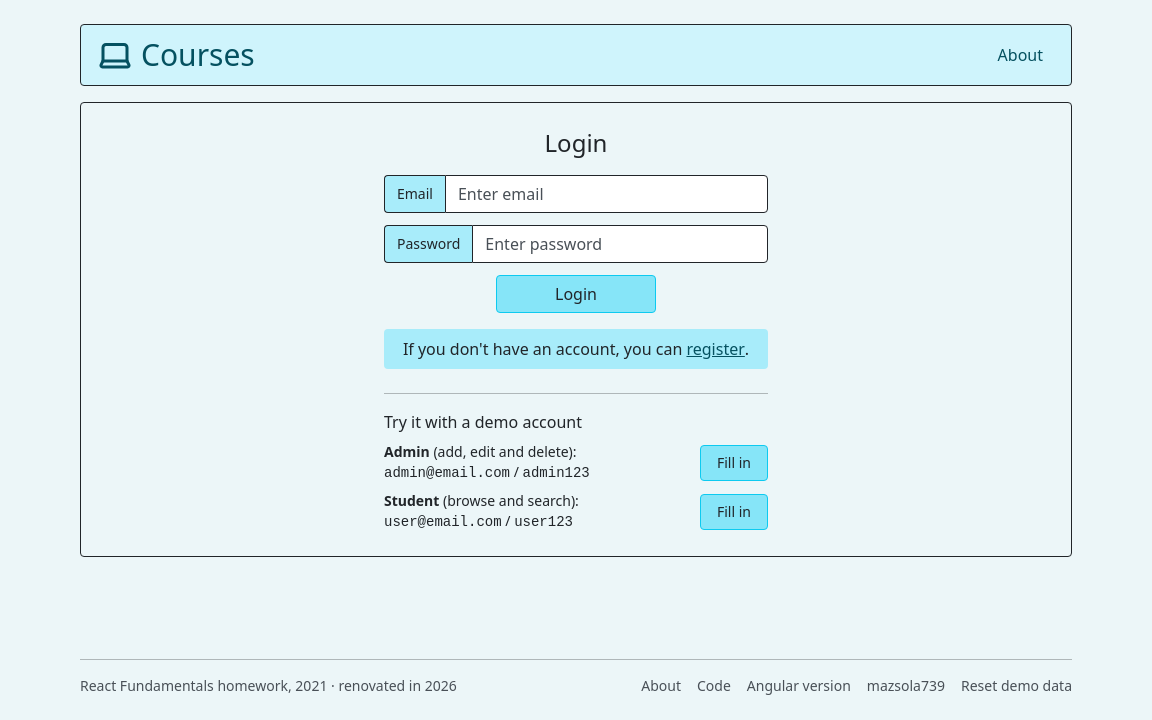
Scenario: the courses app › fills in a demo account
This screenshot has width=1152, height=720.
Later steps or results of the test are not shown.
Click the button with aria-label "Fill in the Student account": (734, 512) [700, 494, 768, 530]
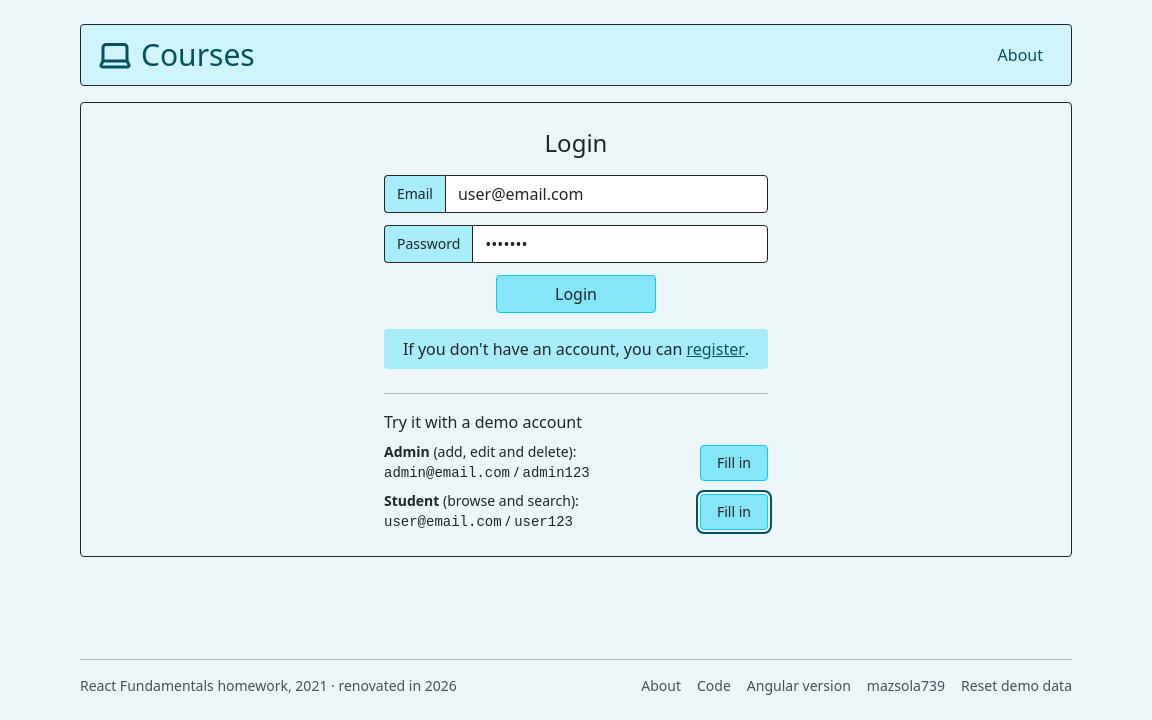
Now the field labelled "Email" holds "user@email.com", box [445, 175, 768, 213]
